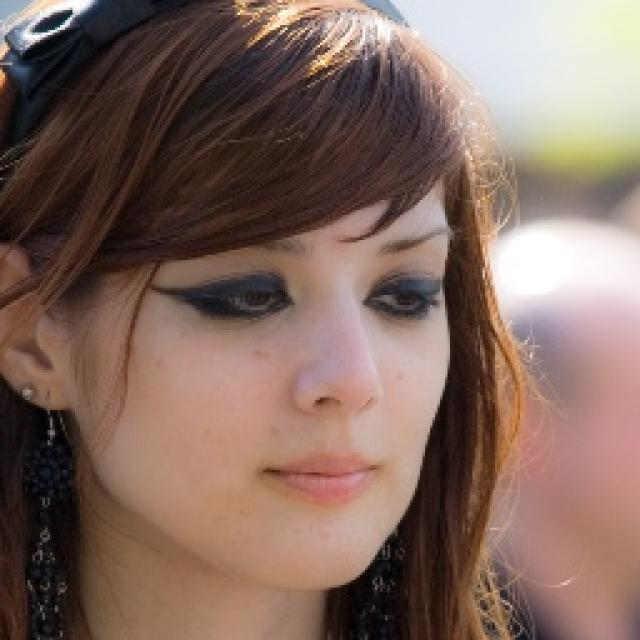earlobe: (0, 240, 70, 410)
